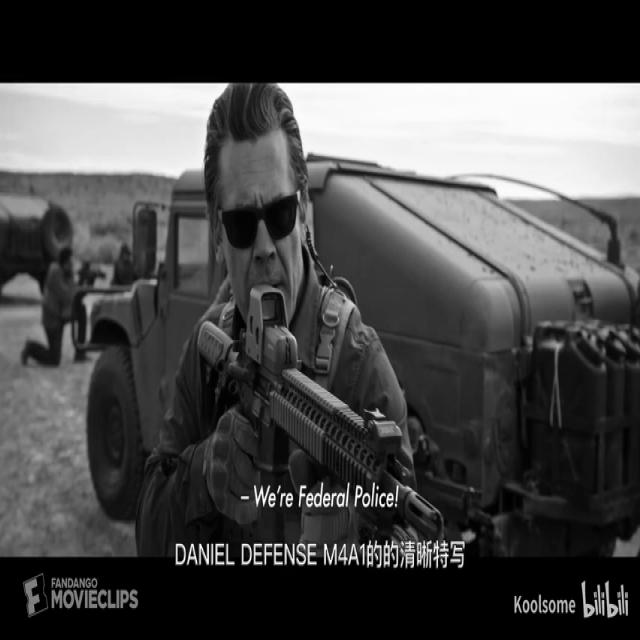Rifle: (179, 242, 492, 640)
